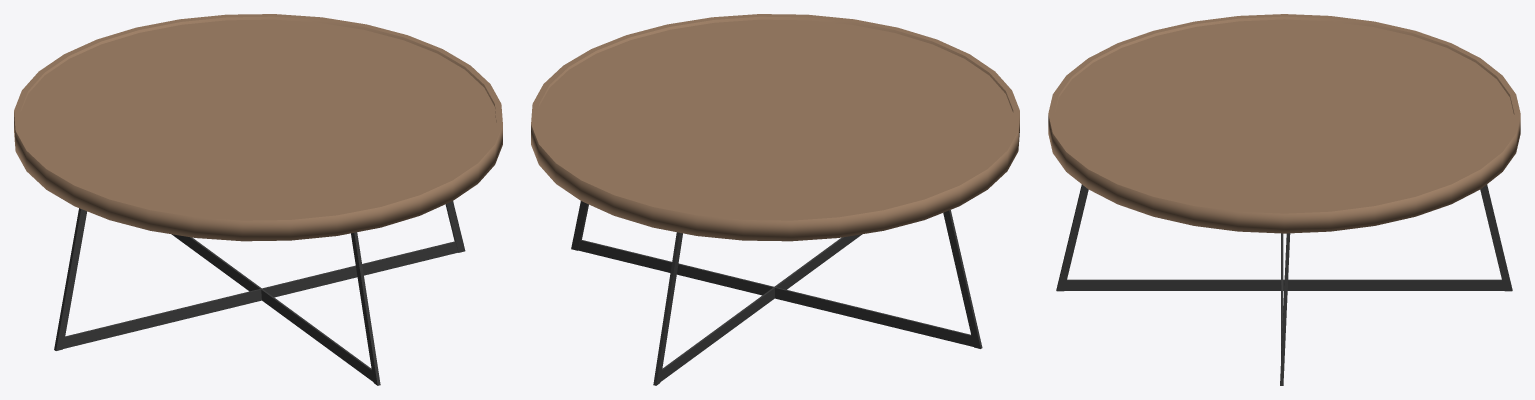
The model's file is Mesa-sala.fbx.
The picture shows the model from 3 angles, left to right: view 1: azimuth 30°, elevation 25°; view 2: azimuth 150°, elevation 25°; view 3: azimuth 270°, elevation 25°; orthographic projection. The views are drawn at different scales.
Parts seen in each view (by area): view 1: Circle; view 2: Circle; view 3: Circle.
Boxes of the visible parts, bbox=[...] form: Circle: bbox=[14, 14, 502, 385]; Circle: bbox=[531, 14, 1019, 385]; Circle: bbox=[1048, 14, 1520, 385].
Bounding box in the file's own units: 97.46 × 40 × 97.46.
